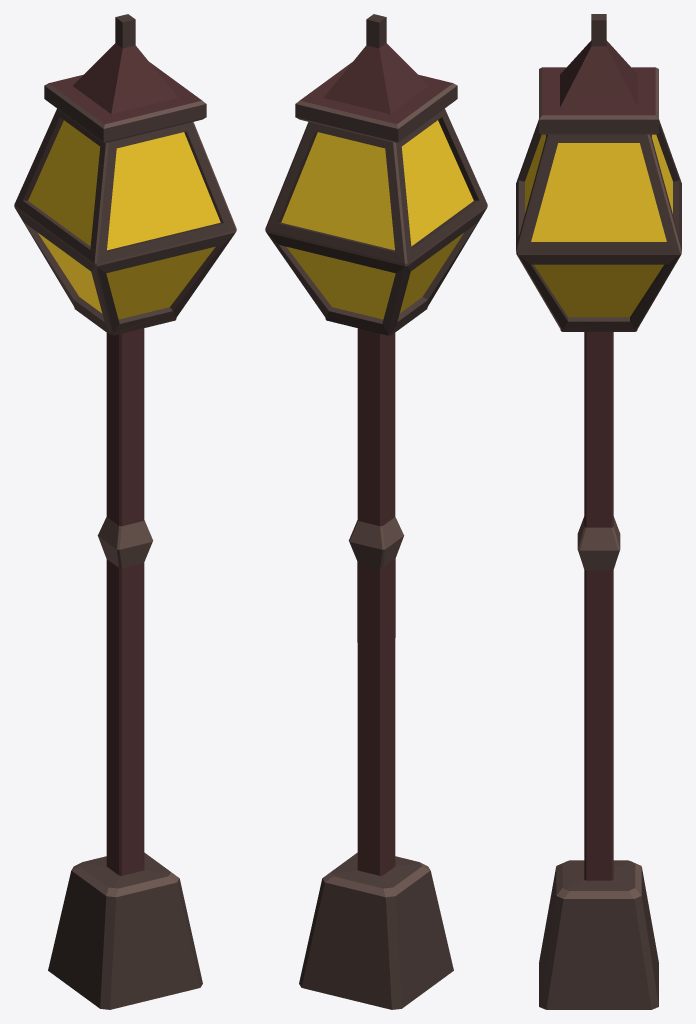
The model's file is lamppost.gltf.
3 views of the same model, side by side, from view 1: azimuth 30°, elevation 25°; view 2: azimuth 150°, elevation 25°; view 3: azimuth 270°, elevation 25° (orthographic).
Parts seen in each view (by area): view 1: LampPost_02; view 2: LampPost_02; view 3: LampPost_02.
Boxes of the visible parts, box(x1,y1,x2,y2) form: LampPost_02: box(14, 14, 236, 1009); LampPost_02: box(265, 14, 487, 1009); LampPost_02: box(516, 14, 681, 1009).
Size of what is drawn, in the model's own units: 0.5505 by 3.55 by 0.5505.
1 material, 1 textured.
